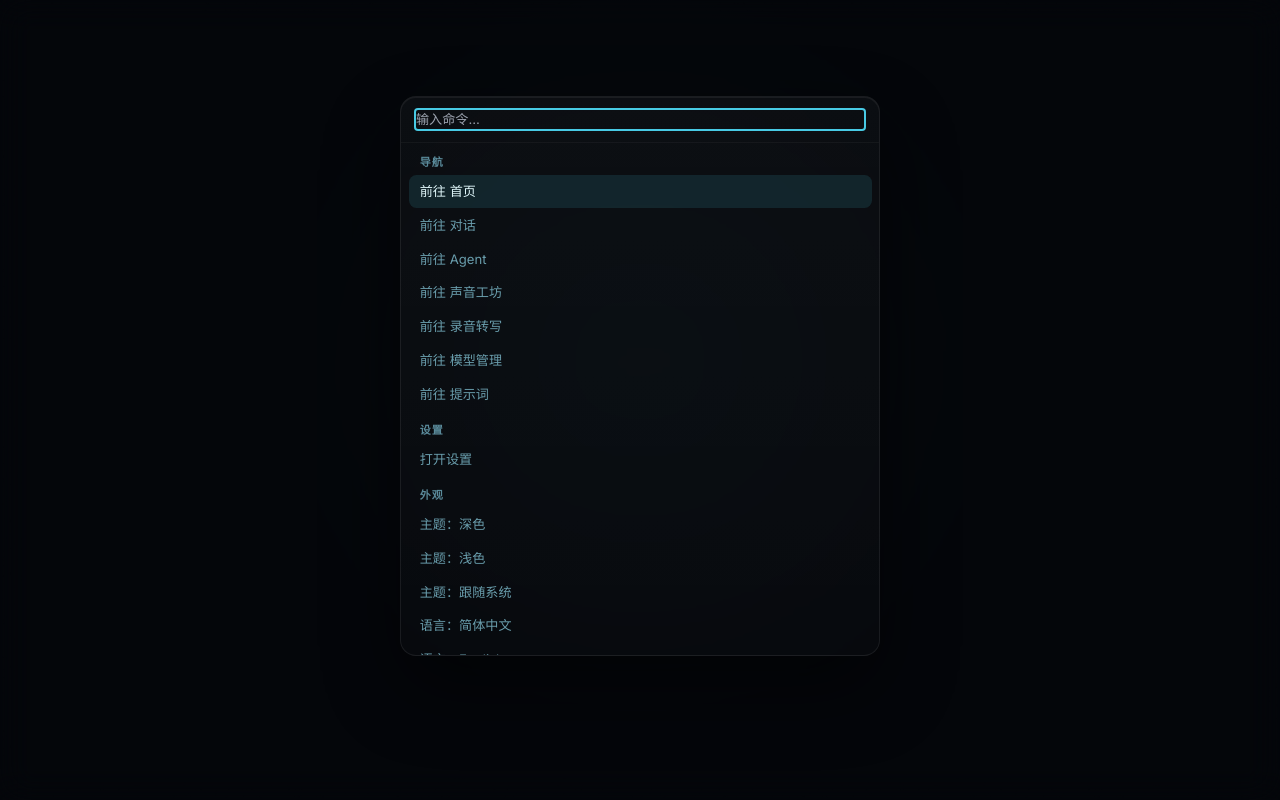
Test: CommandPalette — 键盘交互 › 输入过滤命令（Req 8.1）
This screenshot has width=1280, height=800.
In the field named "搜索命令": (640, 120) [416,110,864,129], type "home"
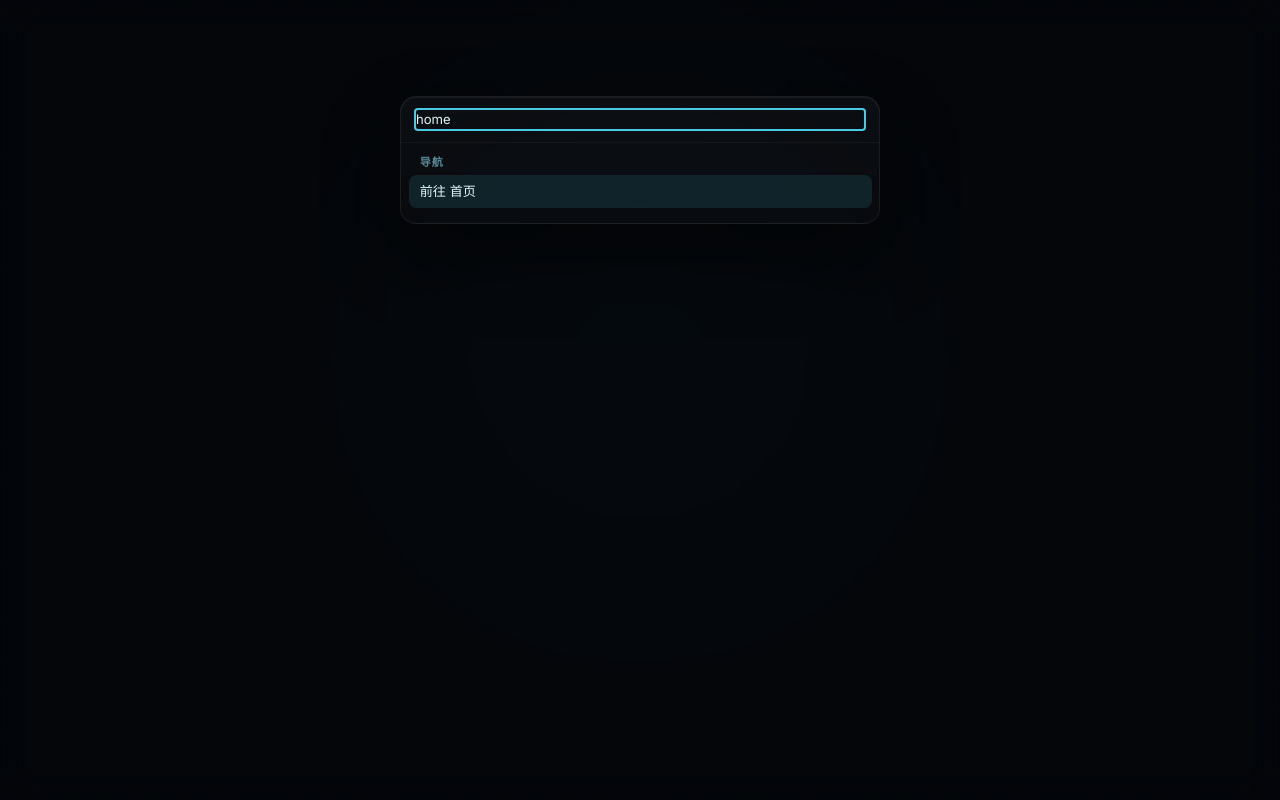
Expected: the text "前往 首页" is shown, [420,182,476,201]
Now the button "前往 对话" is gone
